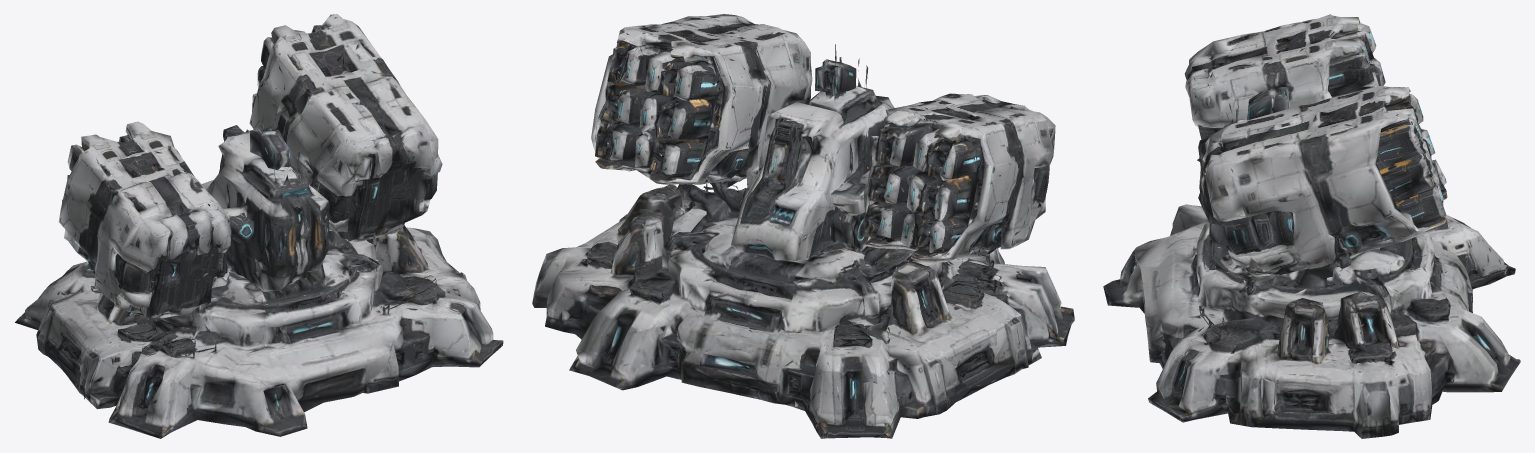
The model's file is sea-missile.glb.
3 renders of one model, left to right at view 1: azimuth 30°, elevation 25°; view 2: azimuth 150°, elevation 25°; view 3: azimuth 270°, elevation 25°, orthographic. The views are drawn at different scales.
Visible parts, largest first — view 1: head_mesh, base_mesh; view 2: head_mesh, base_mesh; view 3: head_mesh, base_mesh.
Part boxes in pixels (x1=…): head_mesh: x1=58, y1=14, x2=442, y2=335; base_mesh: x1=15, y1=227, x2=503, y2=438; head_mesh: x1=591, y1=14, x2=1055, y2=316; base_mesh: x1=532, y1=184, x2=1074, y2=438; head_mesh: x1=1184, y1=14, x2=1447, y2=347; base_mesh: x1=1103, y1=204, x2=1520, y2=438.
Bounding box in the file's own units: 0.9938 × 0.6246 × 0.8541.
Materials: 1 (1 with a texture image).
